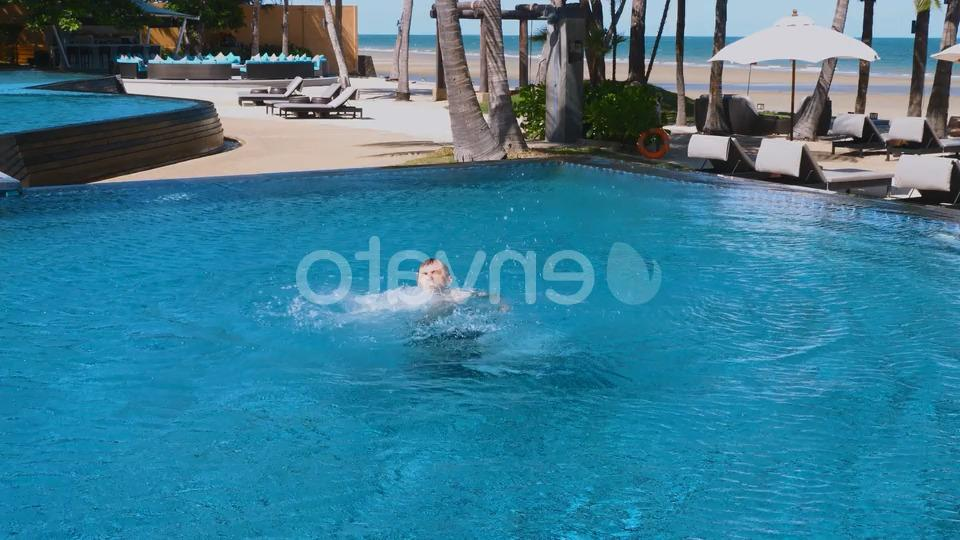Drowning: (281, 178, 566, 391)
